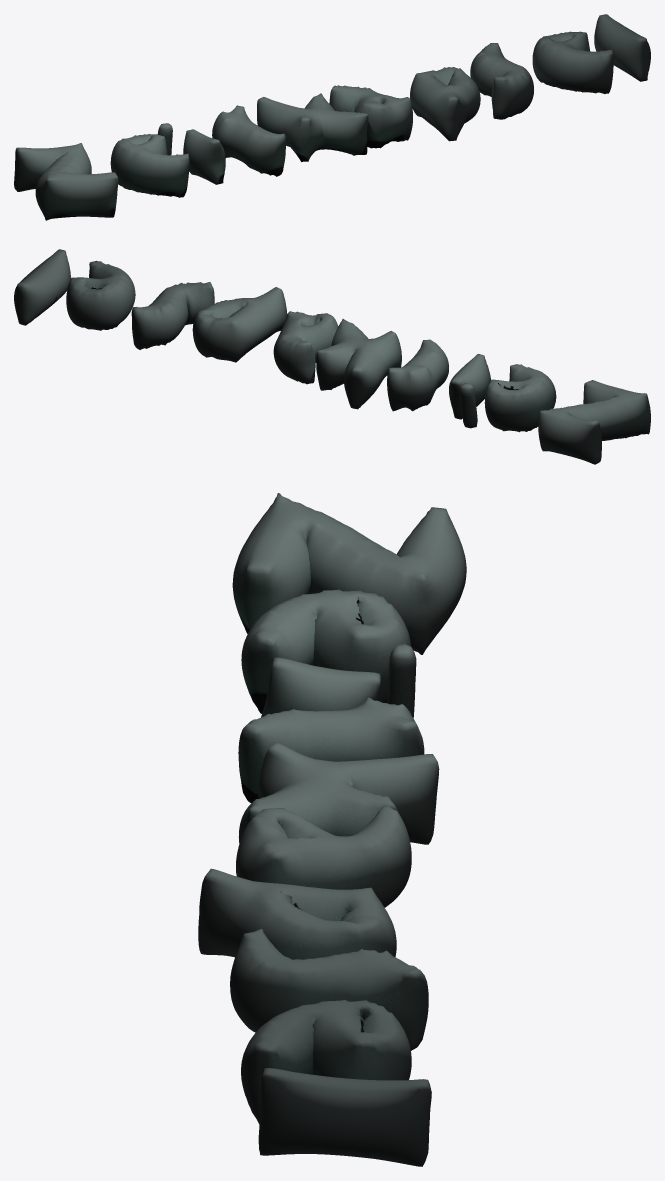
File: title3.glb
3 renders of one model, top to bottom at view 1: azimuth 30°, elevation 25°; view 2: azimuth 150°, elevation 25°; view 3: azimuth 270°, elevation 25°, orthographic. The views are drawn at different scales.
Parts seen in each view (by area): view 1: Text.001; view 2: Text.001; view 3: Text.001.
Boxes of the visible parts, left/top/right/bottom form: Text.001: left=14, top=14, right=650, bottom=220; Text.001: left=14, top=249, right=650, bottom=464; Text.001: left=198, top=493, right=466, bottom=1166.
Size of the model in its own units: 6.13 by 0.487 by 1.17.
1 material, 1 textured.
